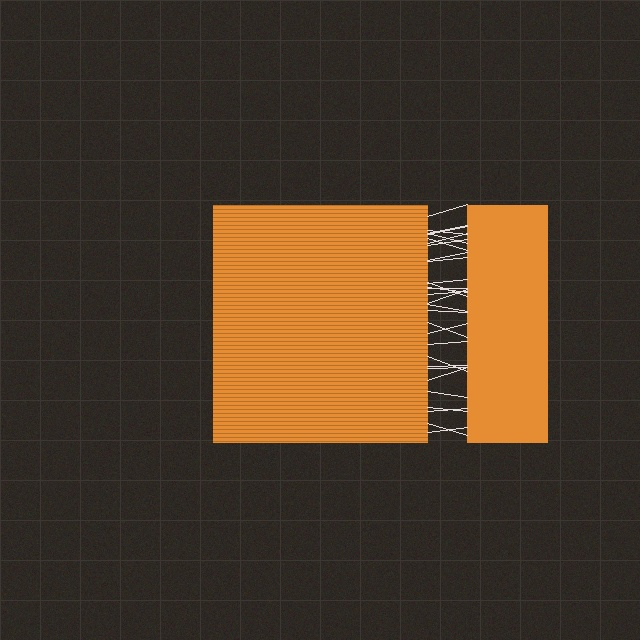stringing: (422, 205, 472, 442)
